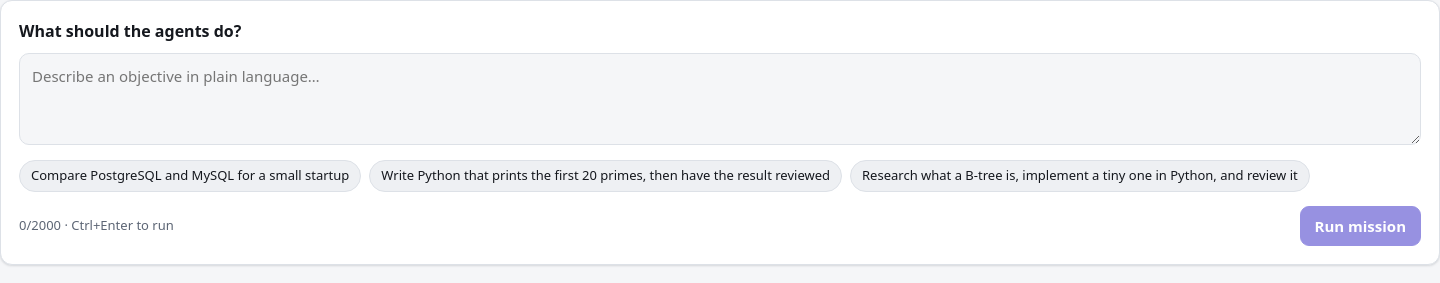
Test case: NewMissionForm › shows that it is working and blocks a second submit
Type "go" into the text box labelled "What should the agents do?" at (720, 99), box [19,53,1421,144]
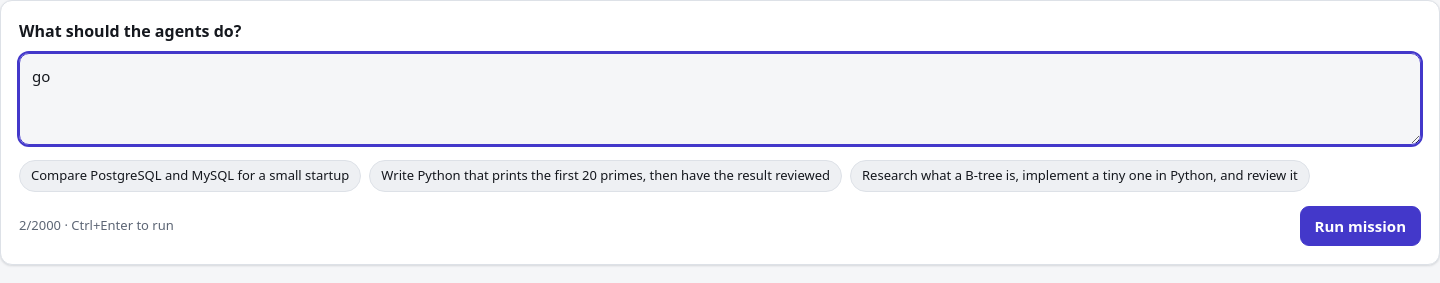
Click the button "Run mission" at (1360, 226), box [1300,206,1421,246]
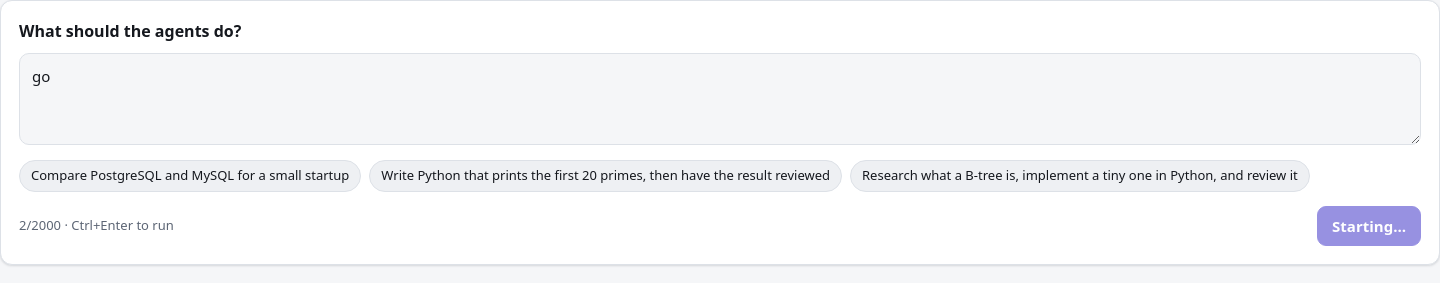
Expected: the text box labelled "What should the agents do?" is disabled, [19,53,1421,144]
Expected: the button "Starting…" is disabled, [1317,206,1421,246]
